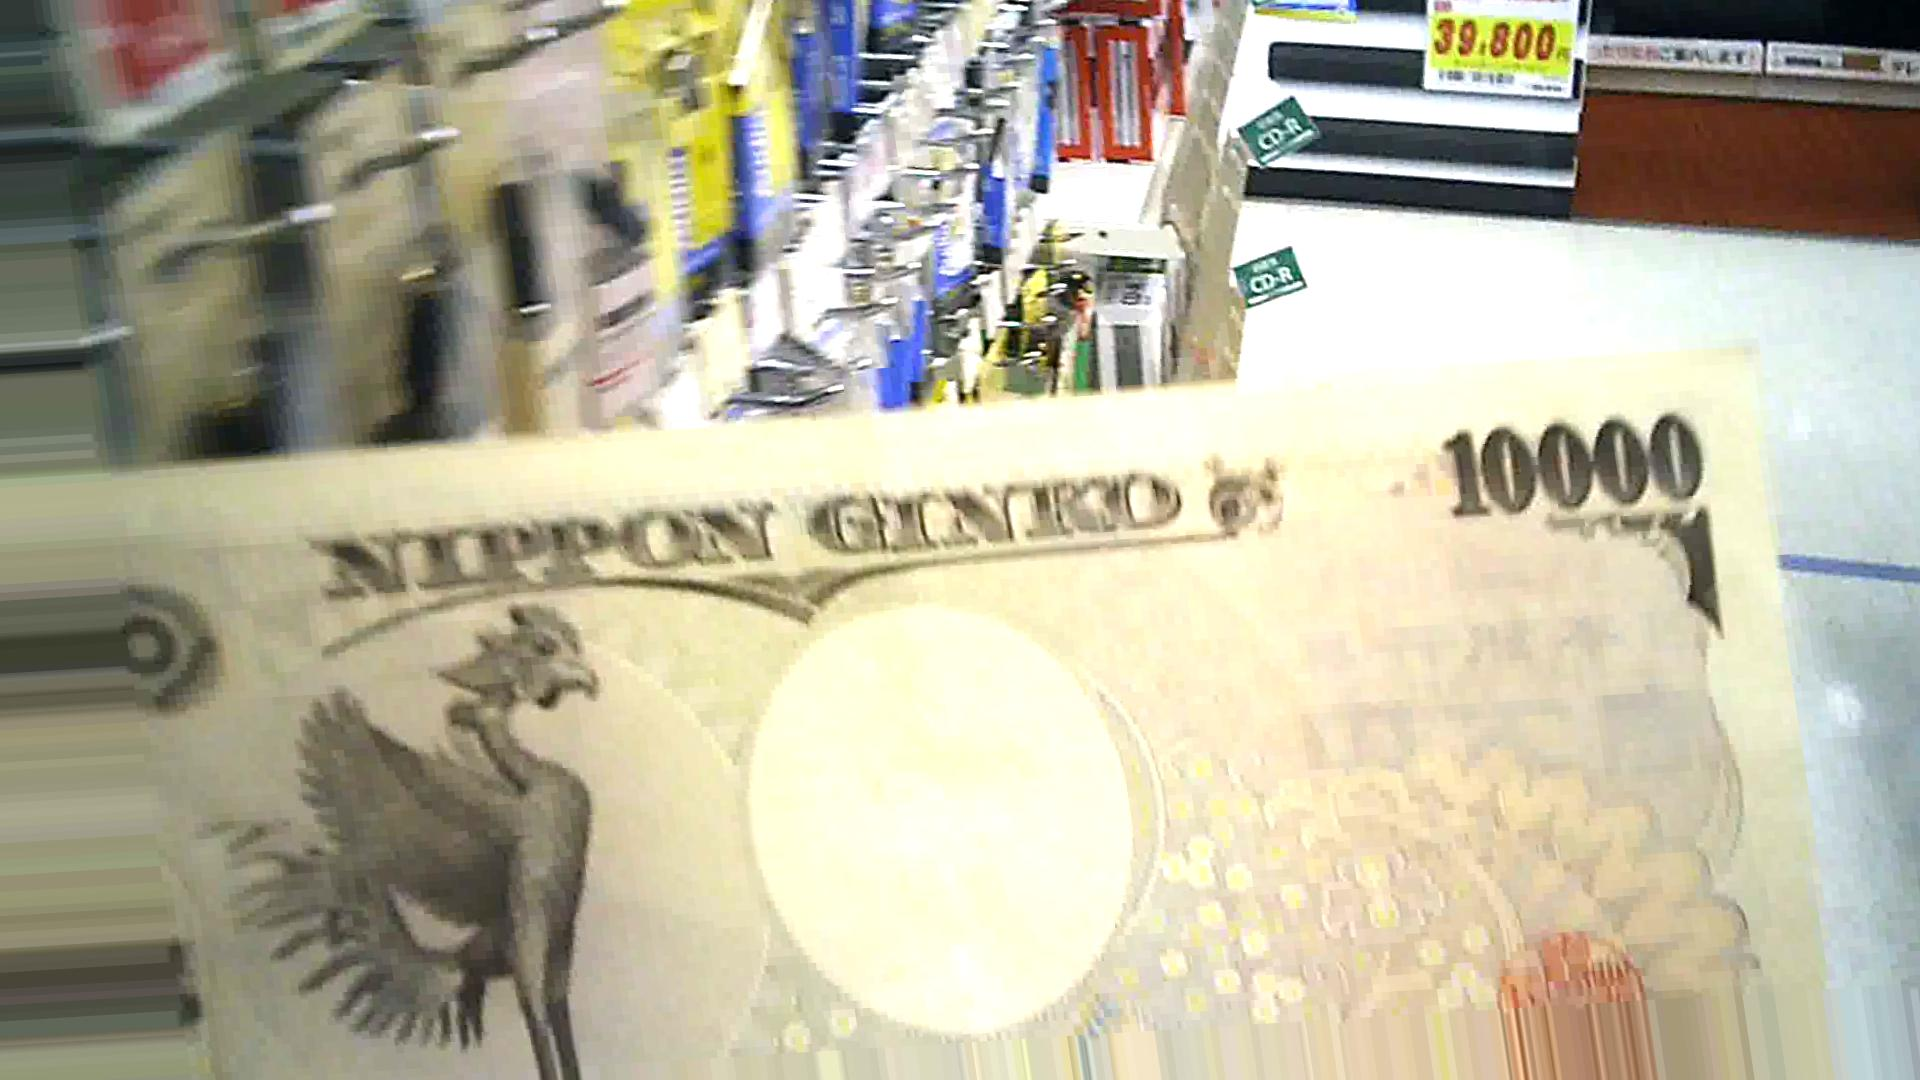10,000 Yen: (121, 343, 1834, 1017)
